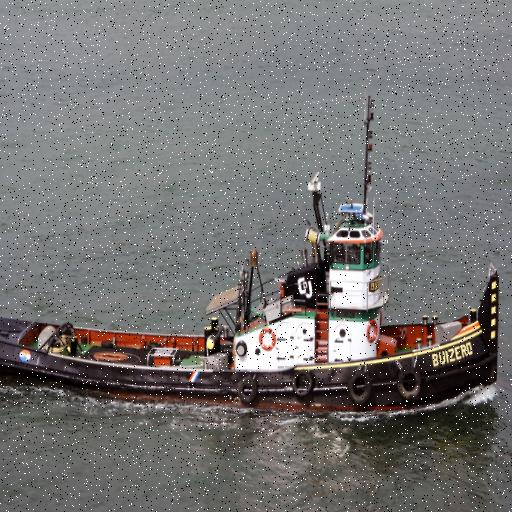tugboat: (1, 83, 503, 434)
